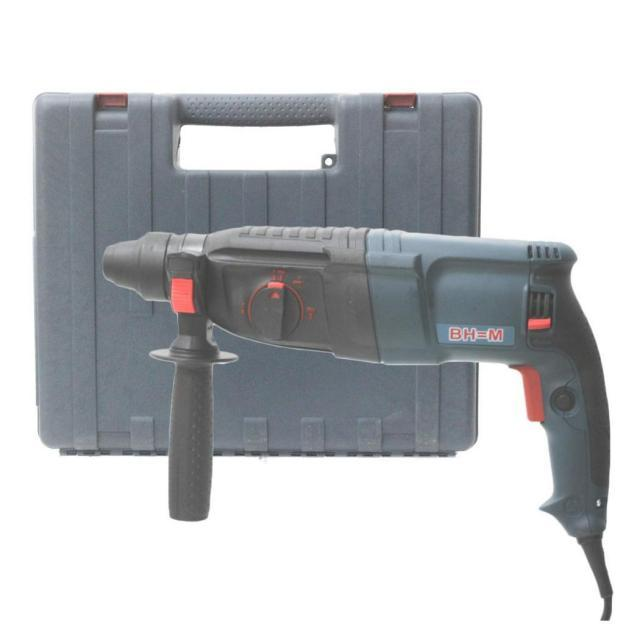drill: (101, 226, 614, 622)
